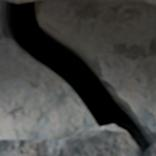brick: (105, 0, 155, 4), (11, 0, 28, 1)
broken_brick: (0, 126, 140, 155), (144, 139, 155, 155)
crack: (2, 0, 153, 155)
